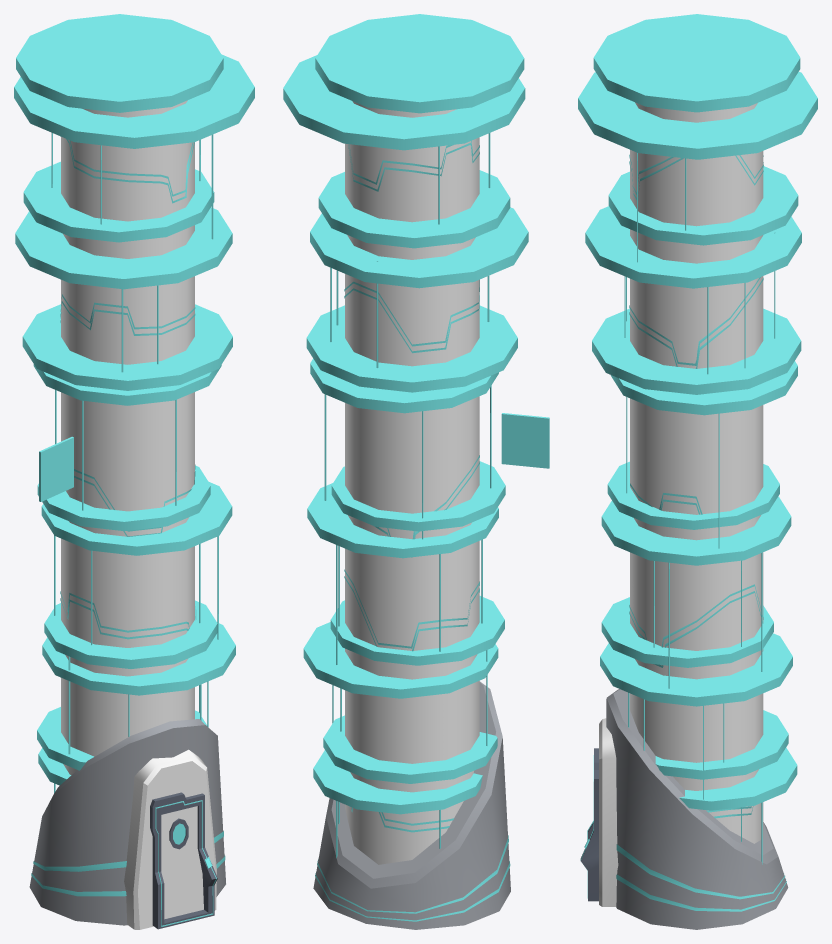
File: Exchange.fbx
3 views of the same model, side by side, from view 1: azimuth 30°, elevation 25°; view 2: azimuth 150°, elevation 25°; view 3: azimuth 270°, elevation 25° (orthographic).
Parts seen in each view (by area): view 1: Exchange; view 2: Exchange; view 3: Exchange.
Boxes of the visible parts, x1,y1,x2,y2 form: Exchange: (14, 14, 254, 929); Exchange: (283, 14, 549, 929); Exchange: (578, 14, 817, 929).
Bounding box in the file's own units: 20.41 × 72.2 × 18.99.
